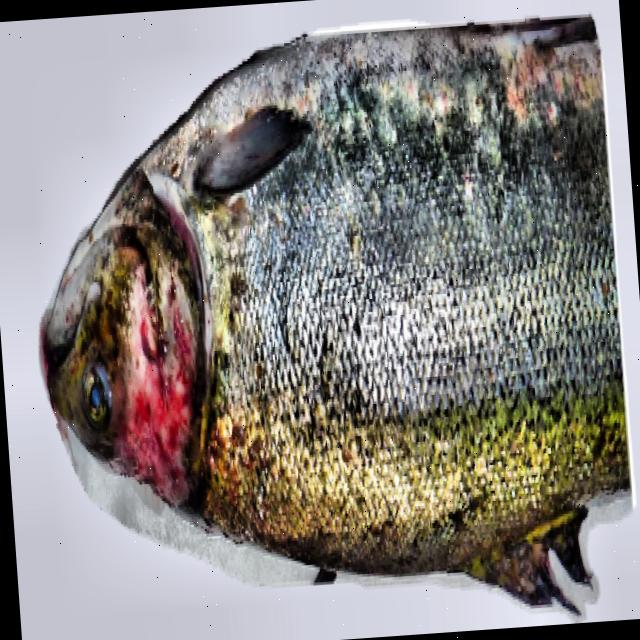mild_red: (142, 16, 630, 570)
wound: (113, 276, 195, 502)
